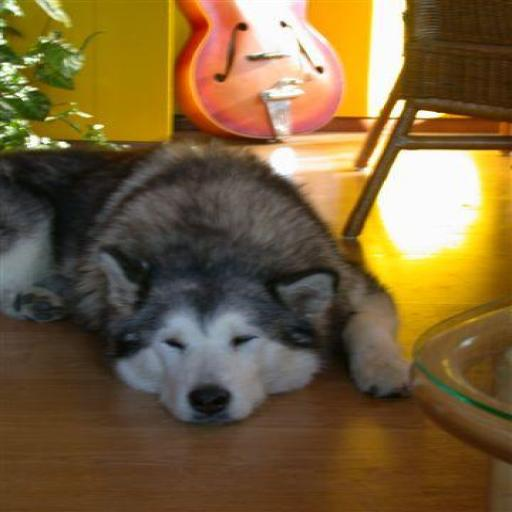dog_face: (99, 236, 339, 426)
